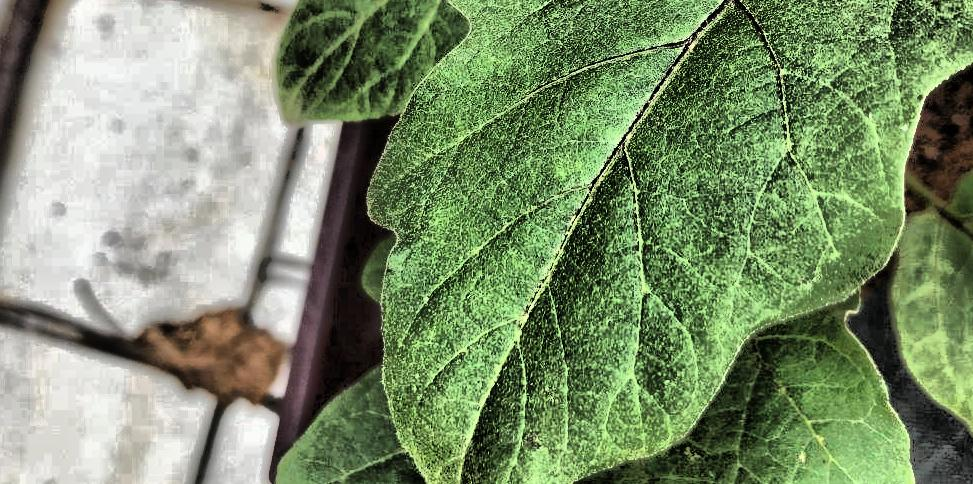HEALTHY: (0, 114, 707, 484)
